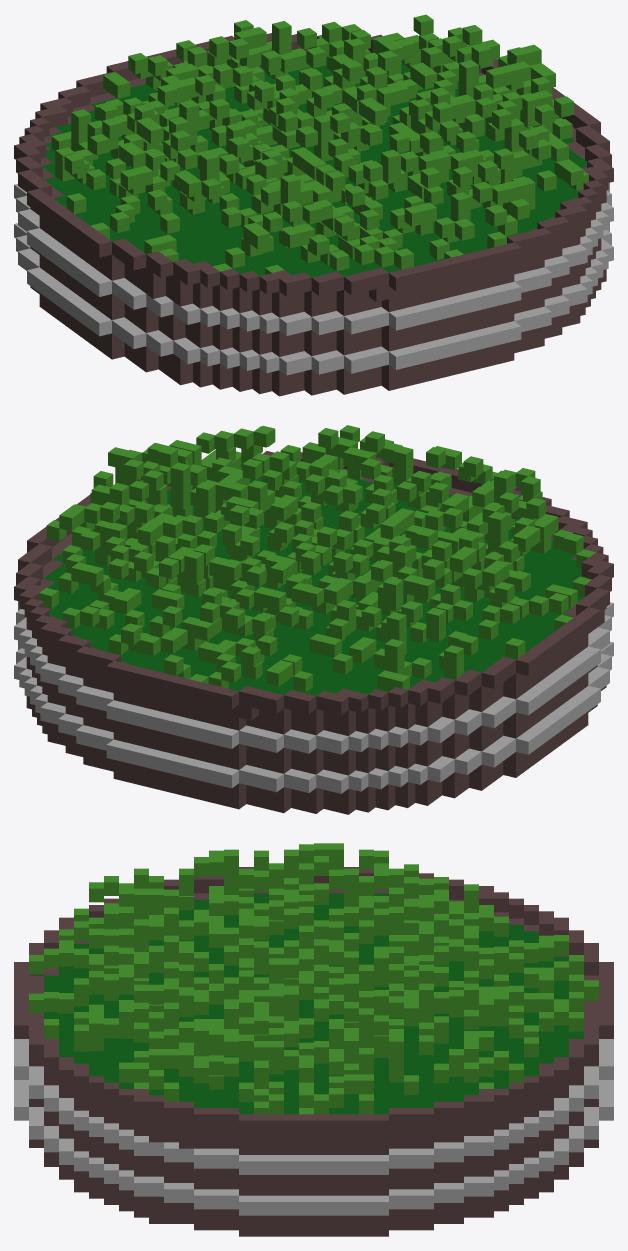
The model's file is circulo_para_arbol-2.obj.
3 views of the same model, one above another, from view 1: azimuth 30°, elevation 25°; view 2: azimuth 150°, elevation 25°; view 3: azimuth 270°, elevation 25° (orthographic). The views are drawn at different scales.
Bounding box in the file's own units: 4 × 1.5 × 4.
Materials: 1 (1 with a texture image).
